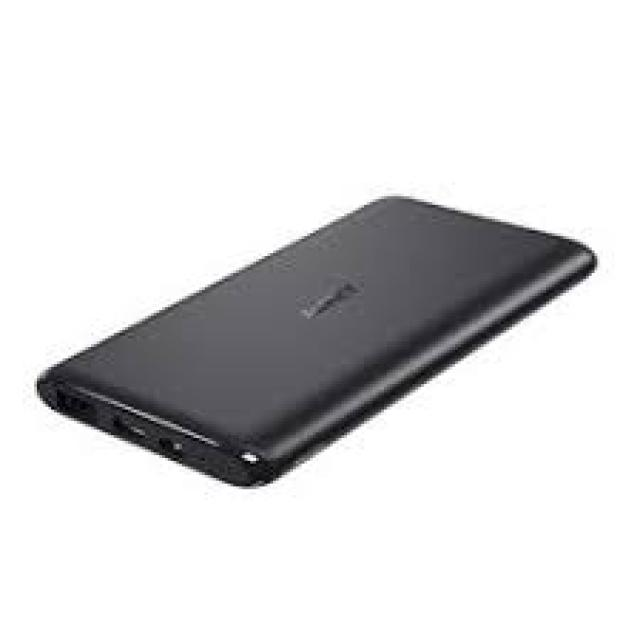battery: (37, 196, 594, 484)
